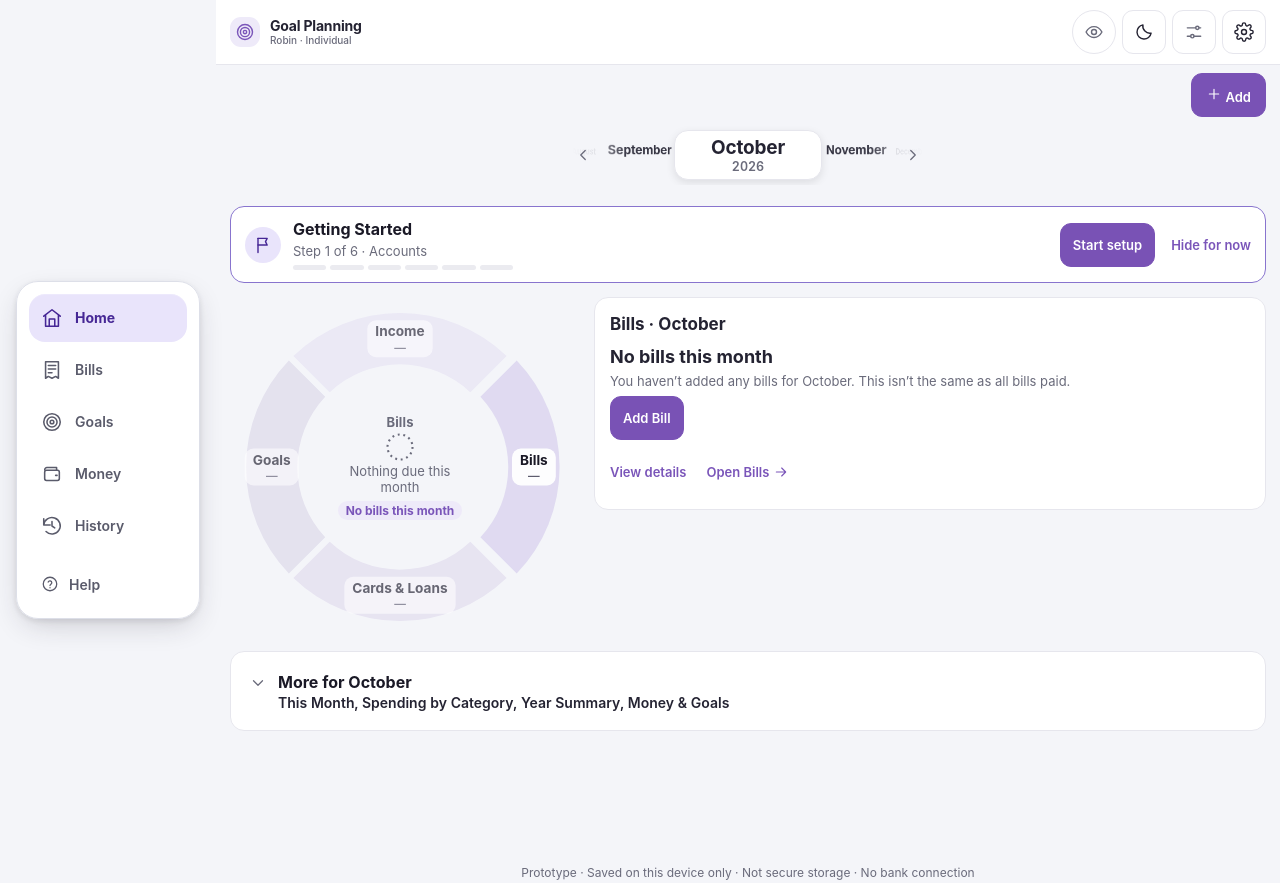
it: Leave without saving? › asks before a tab closes a form with changes; Keep Editing stays exactly there, with the focus back in the field
Step 1. Click the button "Money" → (108, 474), box [29, 450, 187, 498]
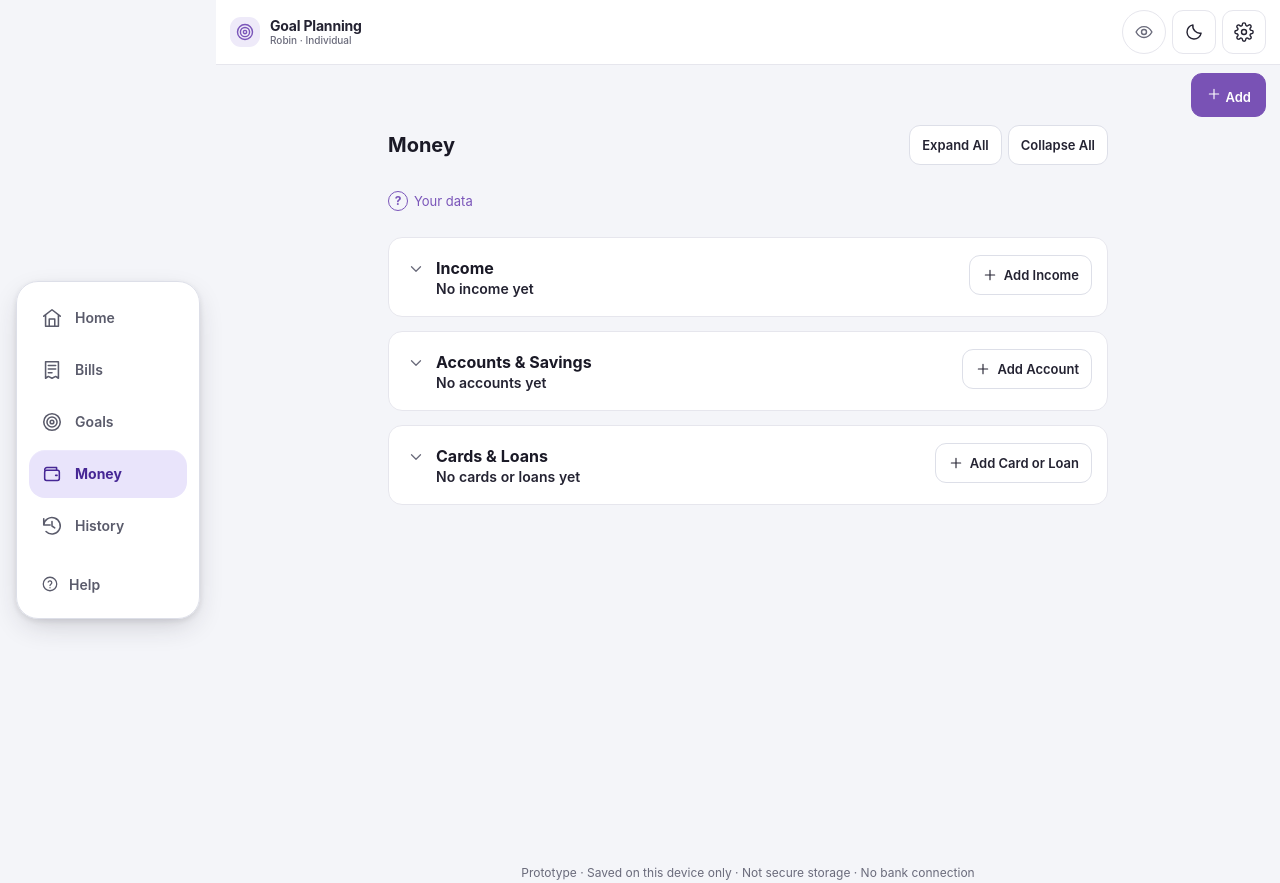
Step 2. Click the button "Accounts & Savings No accounts yet" → (514, 362), box [404, 347, 950, 395]
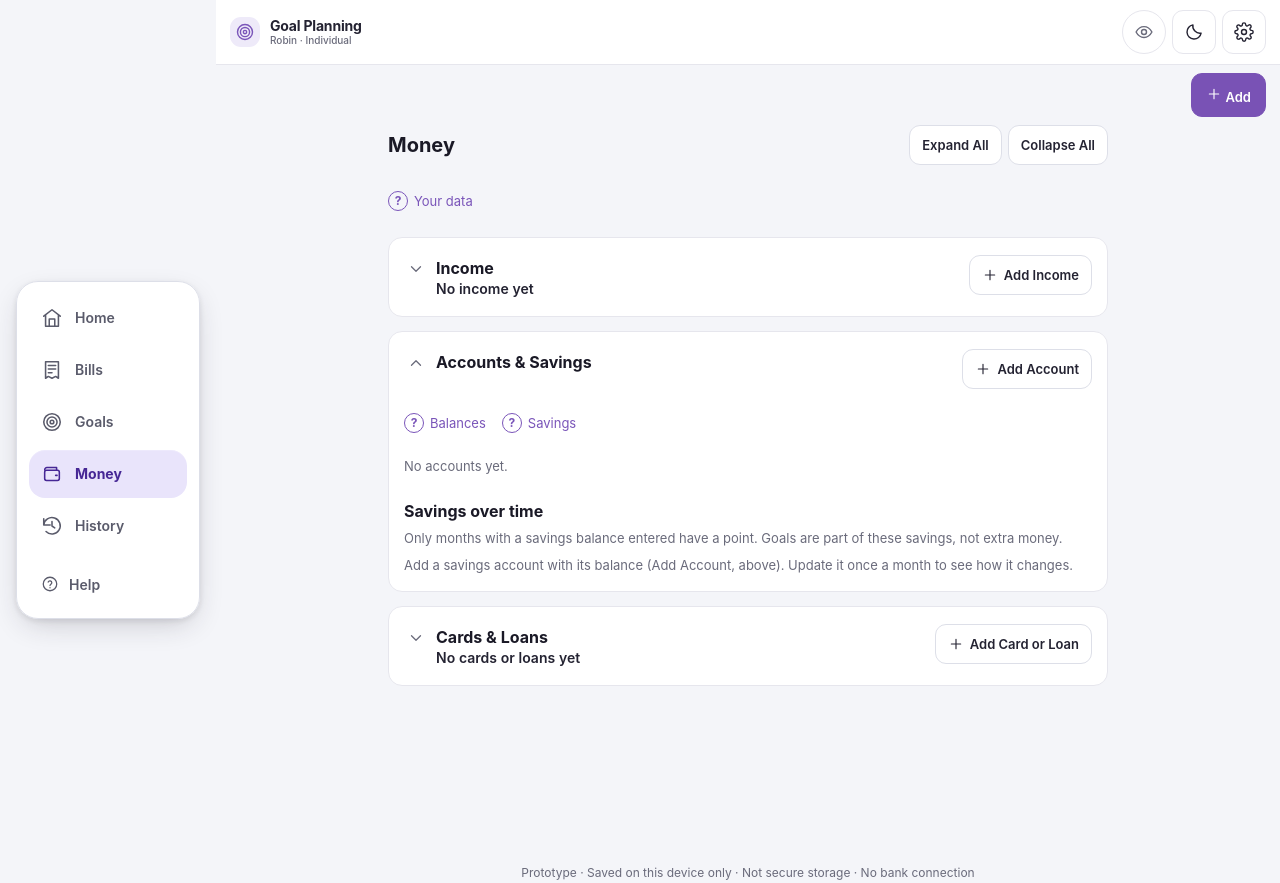
Step 3. Click the button "Add Account" → (1027, 369), box [962, 349, 1092, 389]
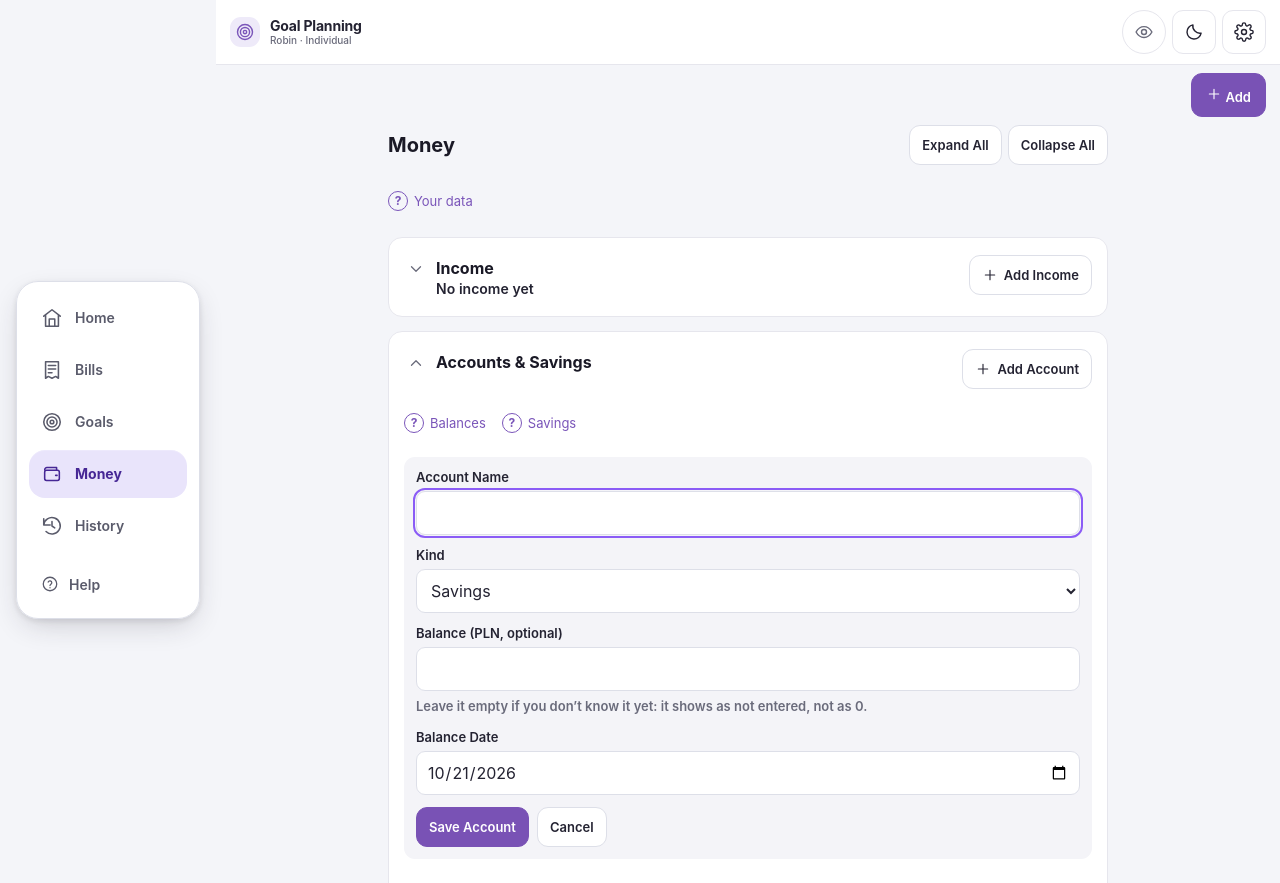
Step 4. Type "Holiday pot" into the field labelled "Account Name" → (748, 513), box [416, 491, 1080, 535]
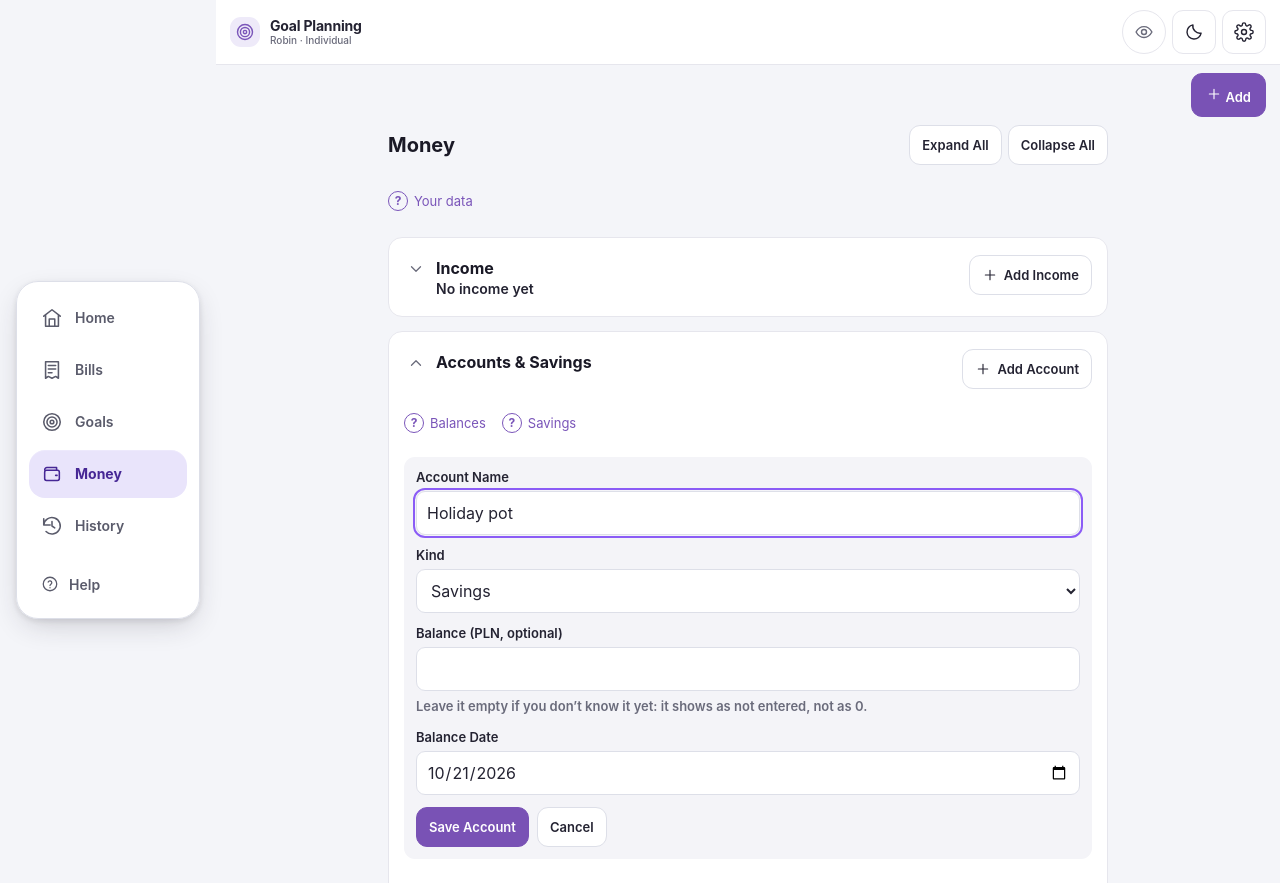
Step 5. Click the button "Home" → (108, 318), box [29, 294, 187, 342]
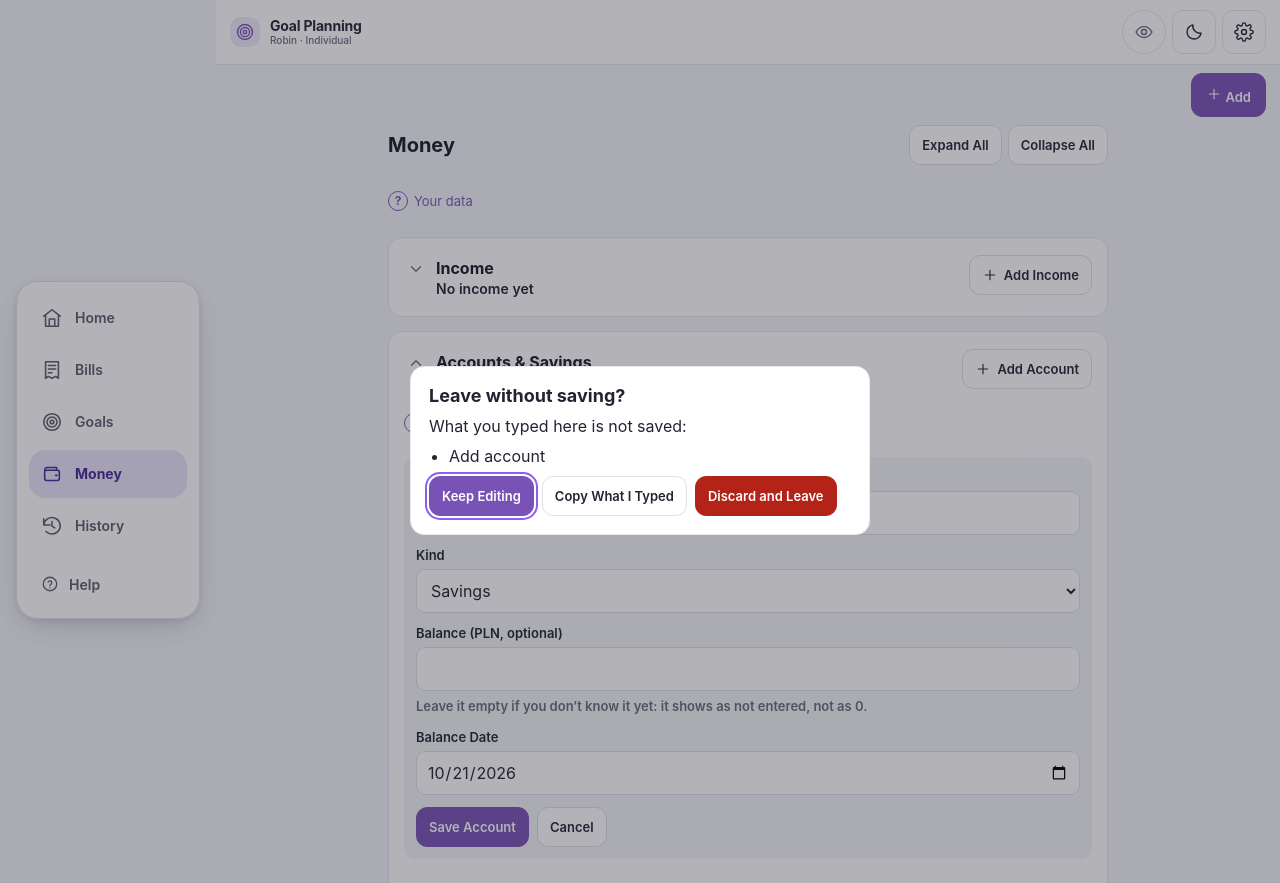
Result: the dialog "Leave without saving?" is shown at [410, 366, 870, 534]
Result: the dialog "Leave without saving?" shows "What you typed here is not saved:" at [429, 416, 687, 436]
Result: the dialog "Leave without saving?" shows "Add account" at [449, 446, 545, 466]
Step 6. Click the button "Keep Editing" → (481, 496), box [429, 476, 534, 516]
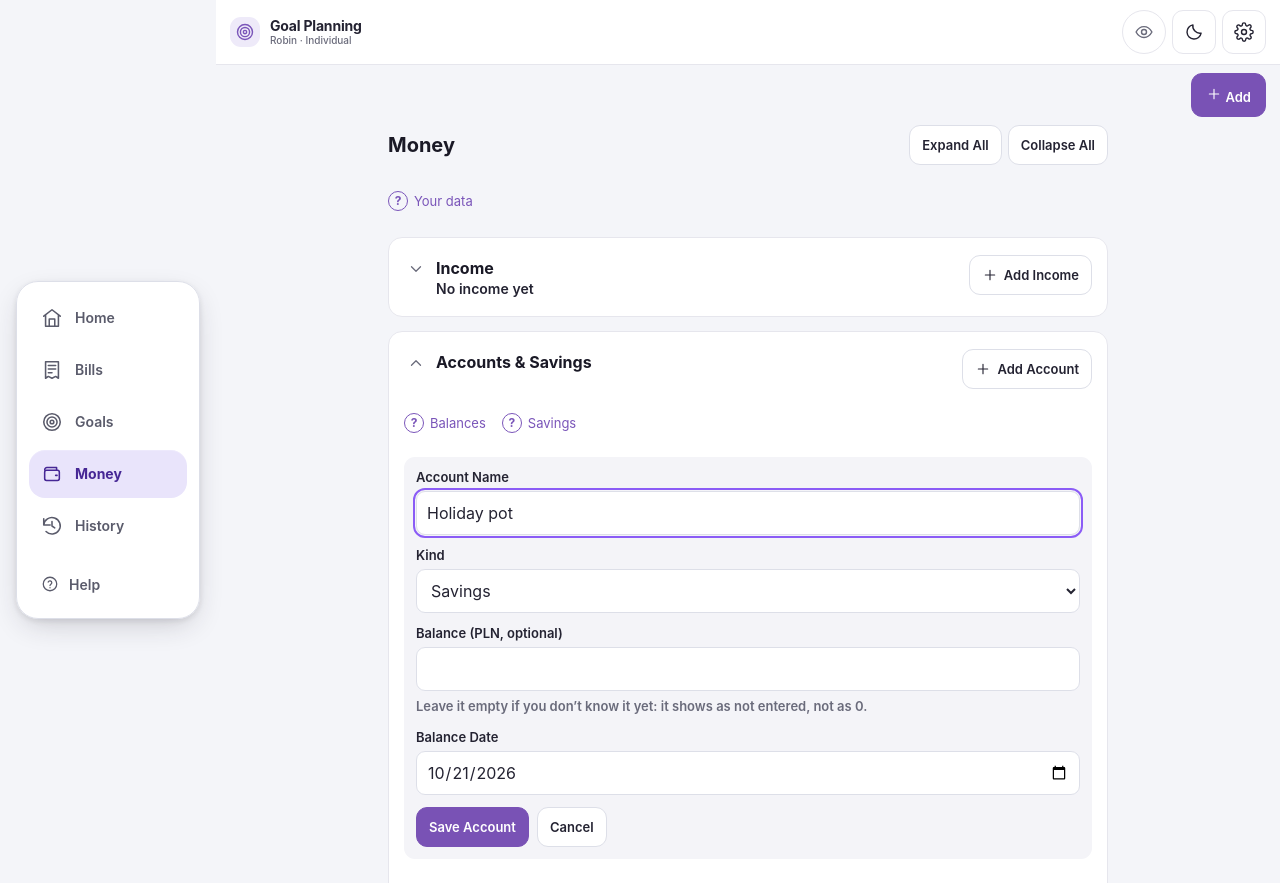
Result: the heading "Leave without saving?" is gone
